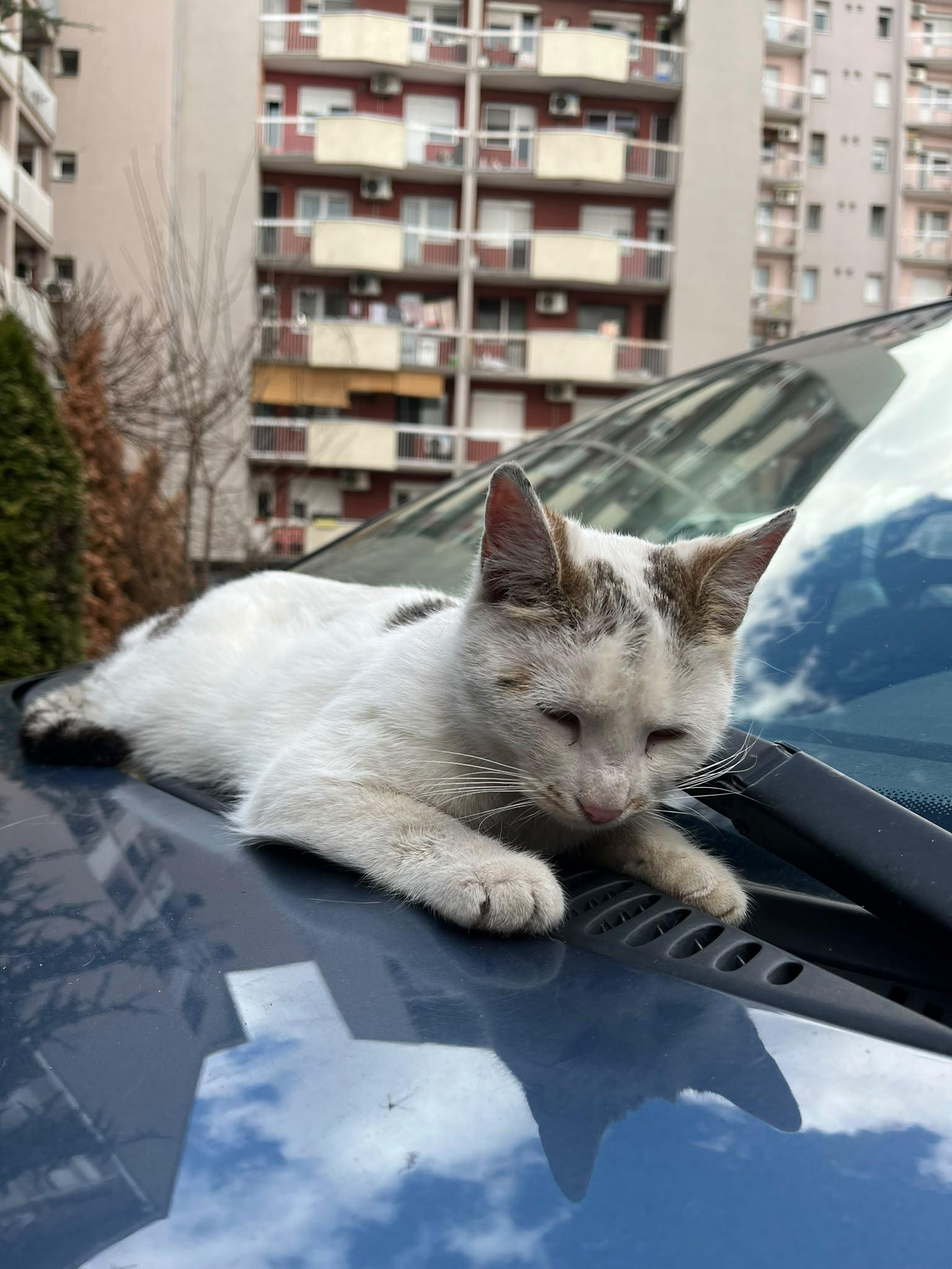macka: (29, 465, 800, 936)
